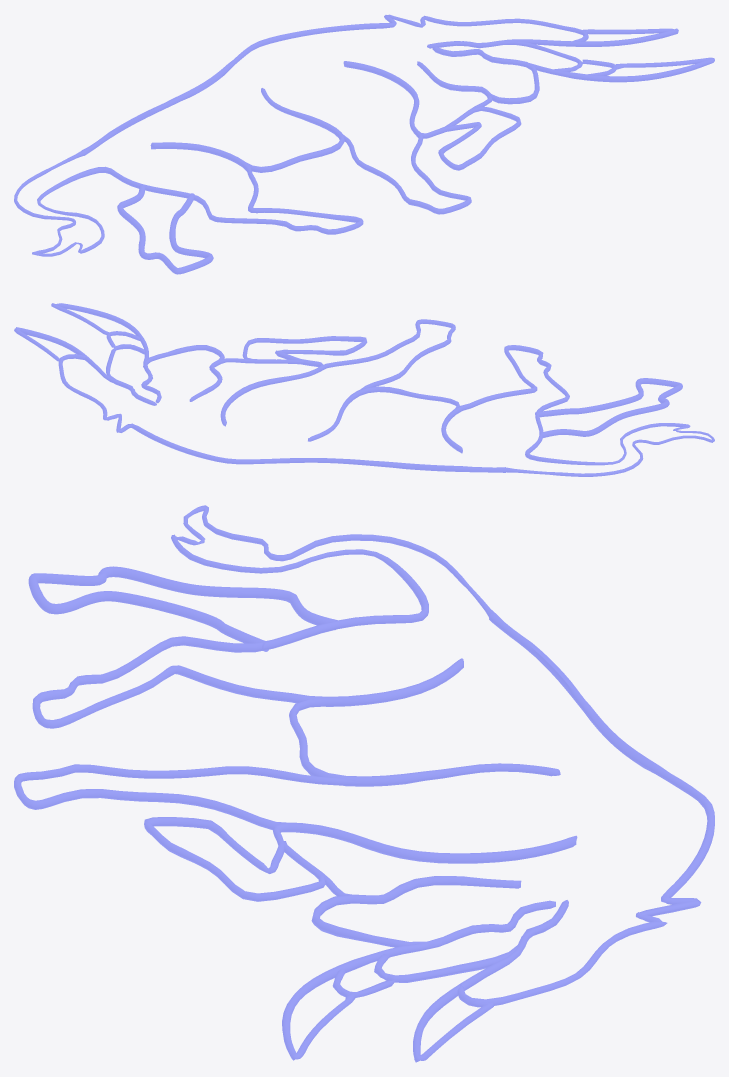
The model's file is taurus-constellation.glb.
The picture shows the model from 3 angles, top to bottom: view 1: azimuth 30°, elevation 25°; view 2: azimuth 150°, elevation 25°; view 3: azimuth 270°, elevation 25°; orthographic projection. The views are drawn at different scales.
Parts seen in each view (by area): view 1: Retopo_NurbsPath.020; view 2: Retopo_NurbsPath.020; view 3: Retopo_NurbsPath.020.
Part boxes in pixels (<box>): Retopo_NurbsPath.020: <box>14,14,714,274</box>; Retopo_NurbsPath.020: <box>14,303,714,476</box>; Retopo_NurbsPath.020: <box>14,505,714,1062</box>.
Size of the model in its own units: 5.34 by 0.0444 by 2.86.
